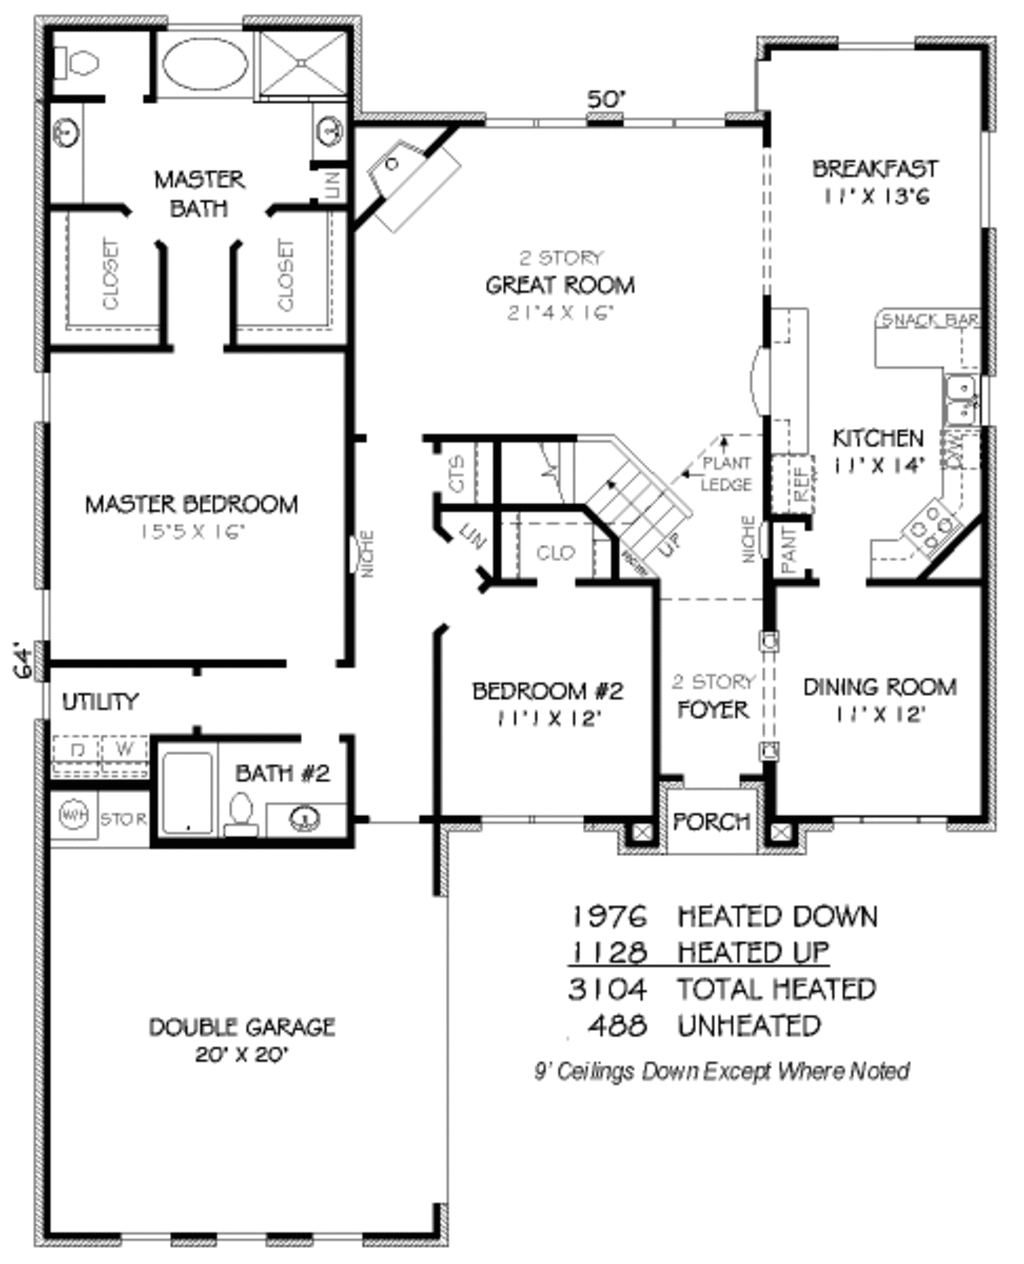large_sink: (30, 36, 127, 98), (216, 772, 263, 841)
small_sink: (24, 102, 95, 194), (265, 790, 357, 847), (301, 90, 359, 172)
stairs: (522, 423, 708, 586)
tub: (146, 731, 234, 837)
twin_sink: (920, 359, 999, 445)
window: (116, 1225, 389, 1255), (961, 118, 1018, 237), (469, 794, 595, 839), (804, 23, 928, 57), (24, 341, 75, 423), (824, 800, 944, 833), (18, 582, 71, 641)
